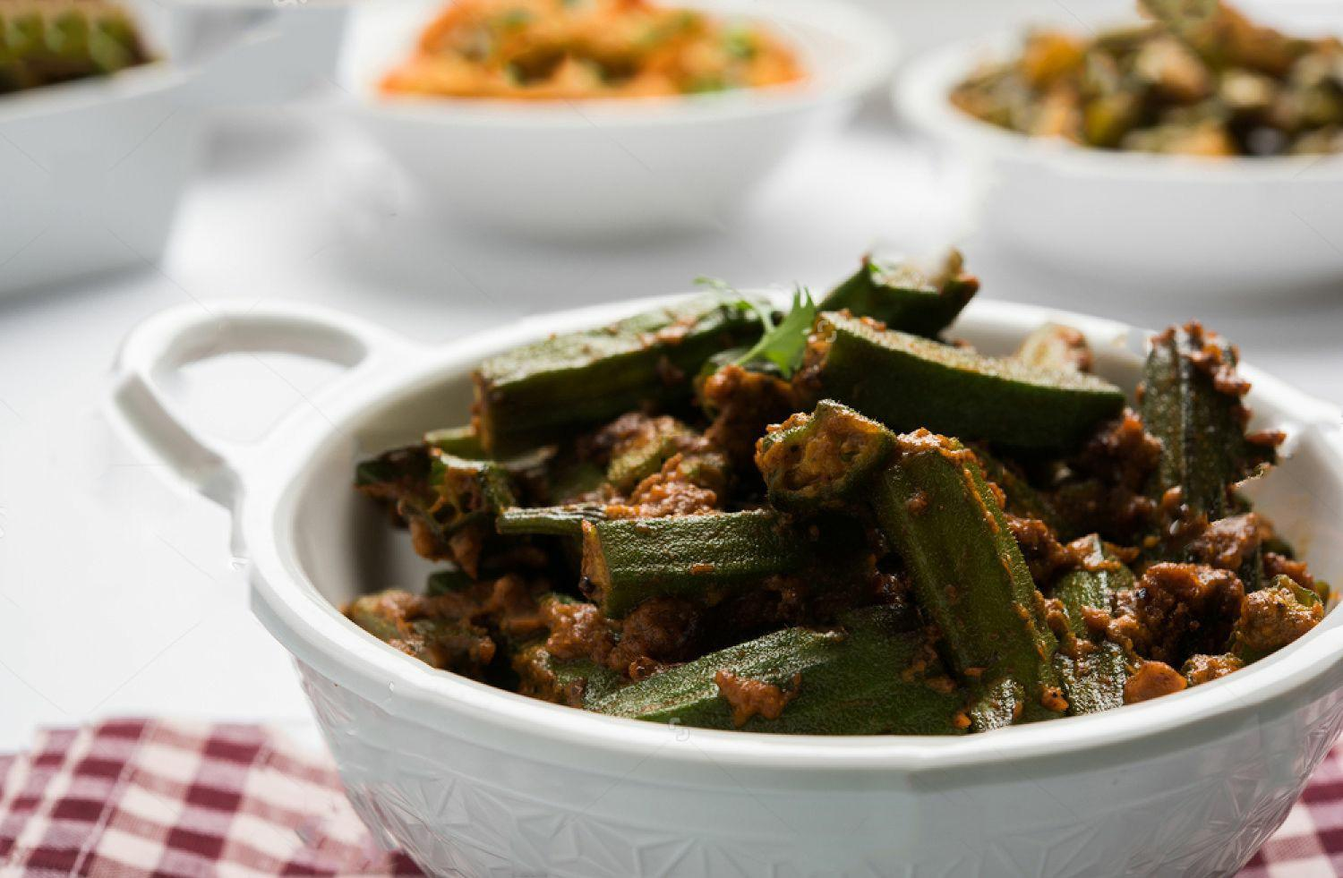BhindiMasala: (346, 249, 1330, 736)
